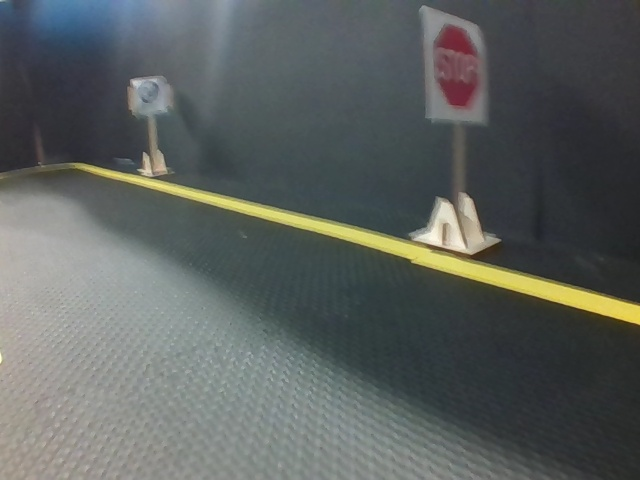no30: (132, 80, 166, 113)
stop: (424, 10, 488, 125)
